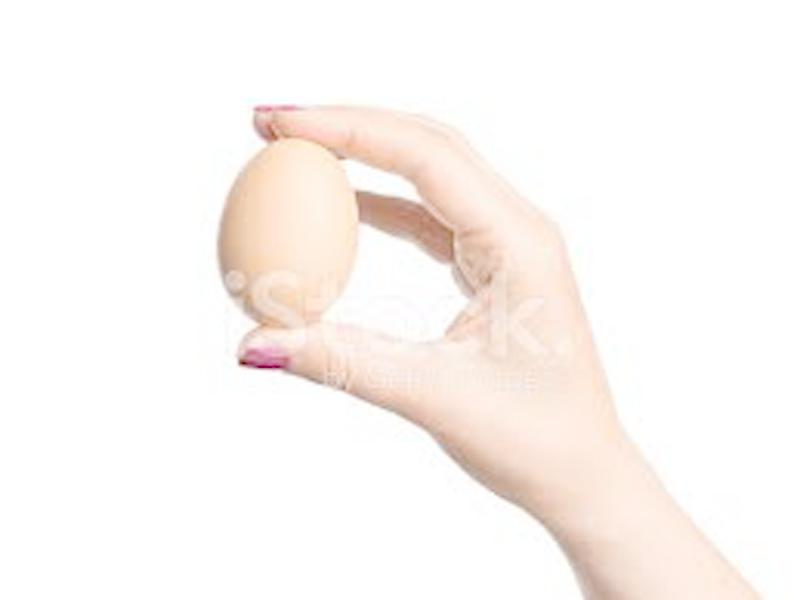Eggs: (222, 138, 355, 329)
